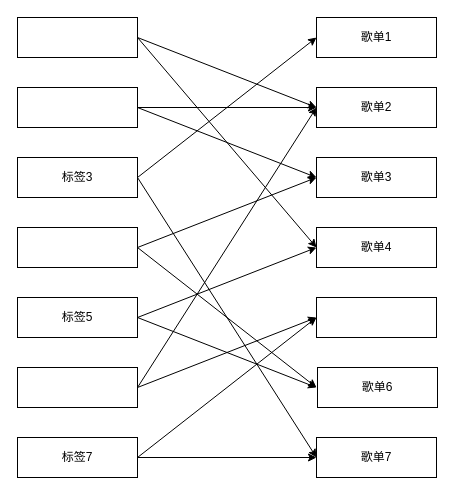
Some shapes in this 455 by 495 pixel diagram are drawn without their labels. Each missing label, with the centre of its shape:
标签1: point (77, 37)
标签2: point (77, 107)
标签4: point (77, 247)
标签6: point (77, 387)
歌单5: point (376, 317)
